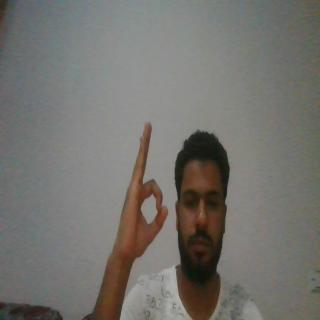Space: (118, 109, 170, 260)
